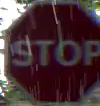Stop: (4, 2, 99, 105)
